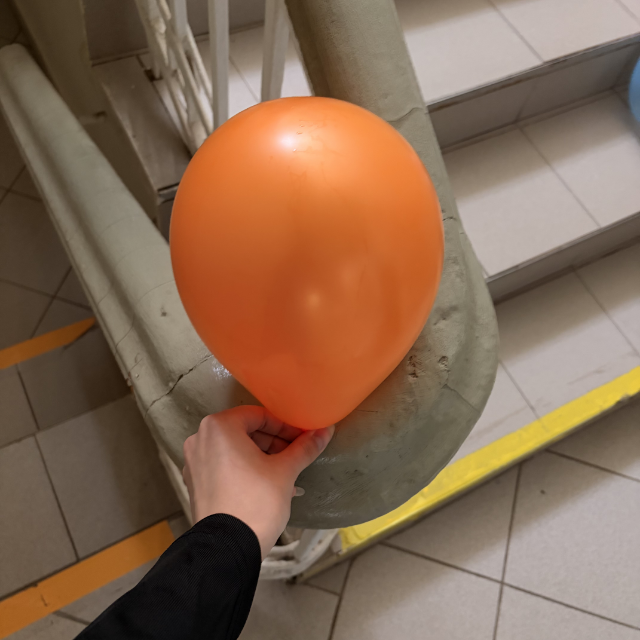balloon: (168, 96, 444, 430)
